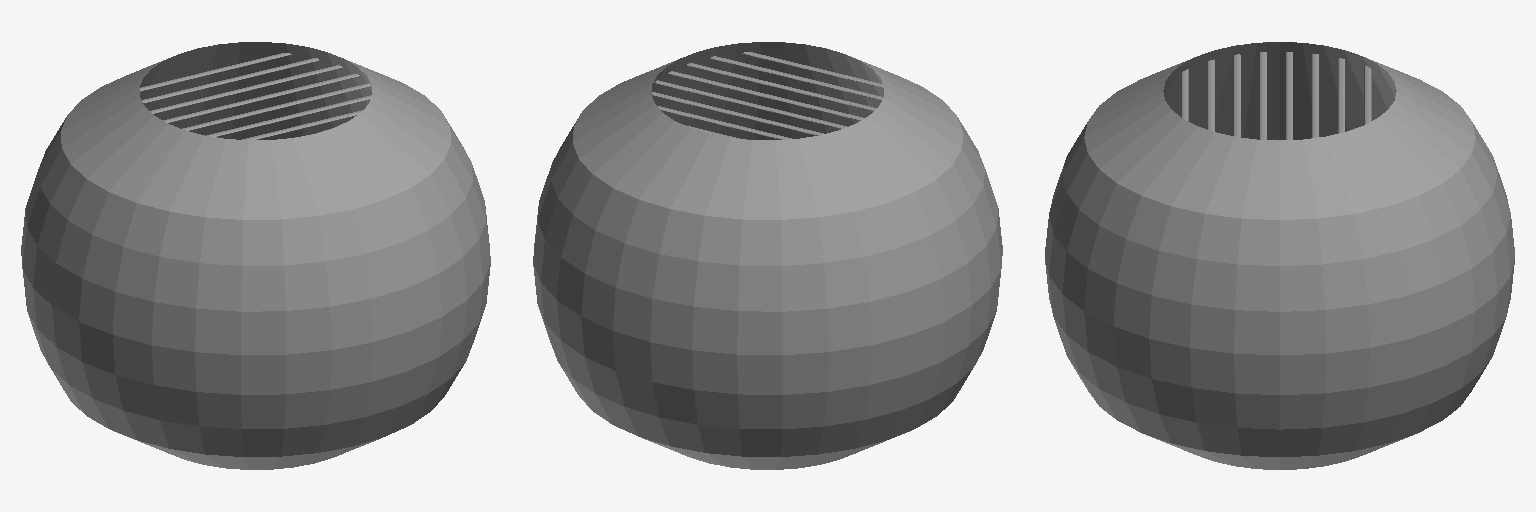
The model's file is dspot.obj.
3 renders of one model, left to right at view 1: azimuth 30°, elevation 25°; view 2: azimuth 150°, elevation 25°; view 3: azimuth 270°, elevation 25°, orthographic.
Parts seen in each view (by area): view 1: Sphere; view 2: Sphere; view 3: Sphere.
Part boxes in pixels (bbox=[...]): Sphere: bbox=[21, 42, 490, 469]; Sphere: bbox=[533, 42, 1002, 469]; Sphere: bbox=[1045, 42, 1514, 469].
Size of the model in its own units: 2 by 1.54 by 2.